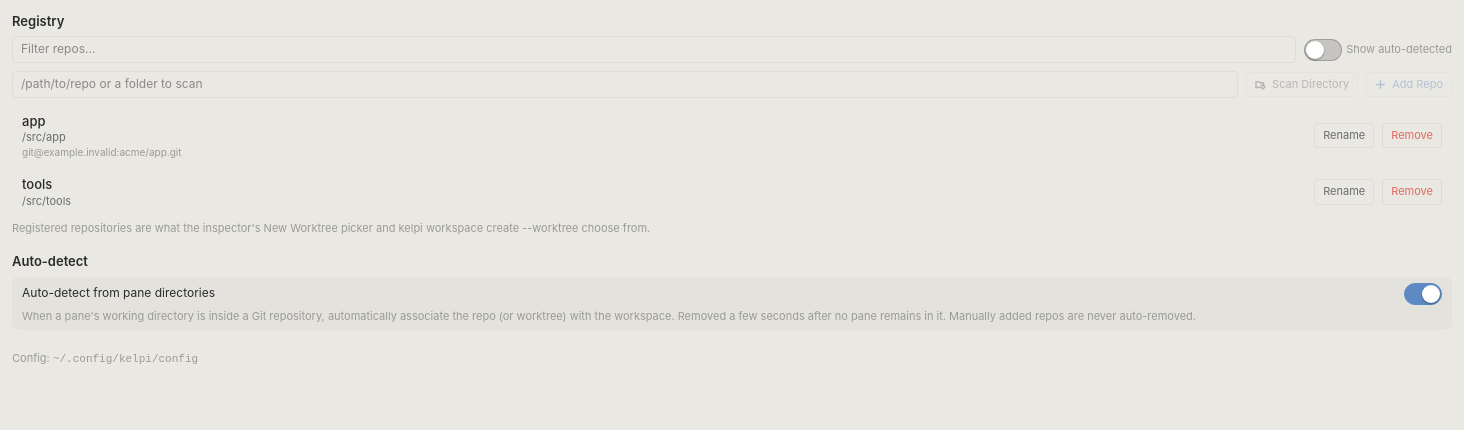
Scenario: the list (§SET-055, §SET-056) › reveals auto-detected rows, tagged as such, when the checkbox is on
Step 1. Click the switch with test id "repo-show-auto" → [1323, 50], box [1304,39,1342,61]
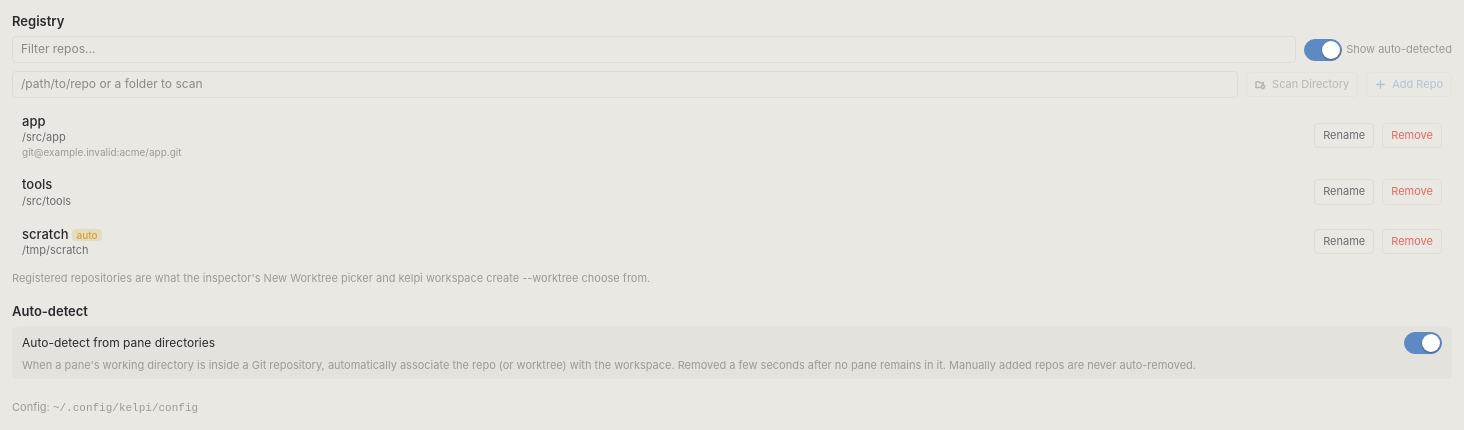
Check: the text with test id "repo-auto-r3" reads "auto", box [76,229,98,241]
